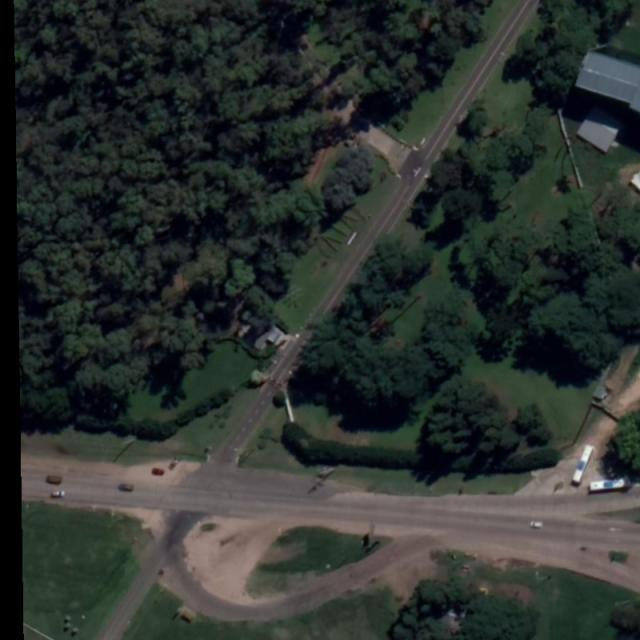vehicle: (570, 443, 596, 486), (590, 478, 632, 492), (46, 476, 63, 486), (167, 459, 180, 471), (151, 468, 166, 477), (119, 483, 134, 492), (50, 491, 66, 499), (530, 521, 544, 527)
